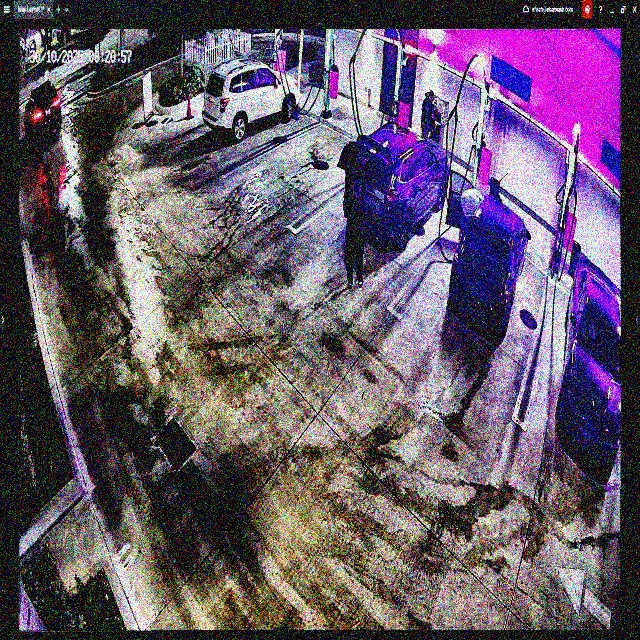Car: (446, 166, 530, 337), (343, 123, 448, 249)
